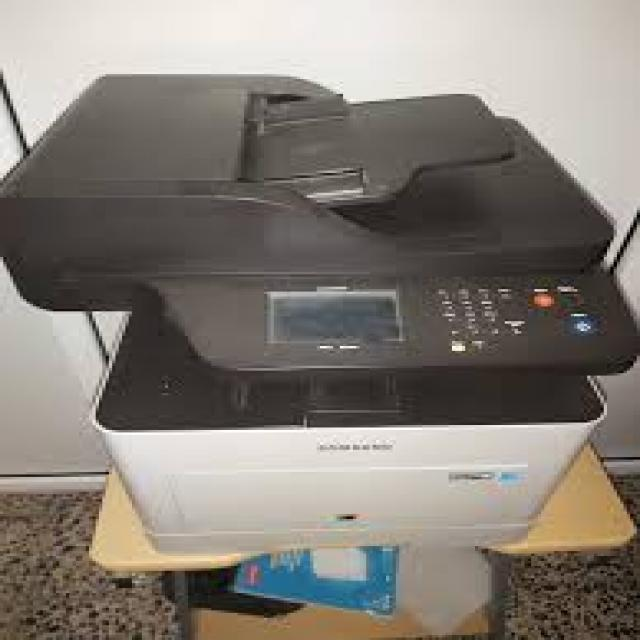printer: (0, 63, 640, 559)
